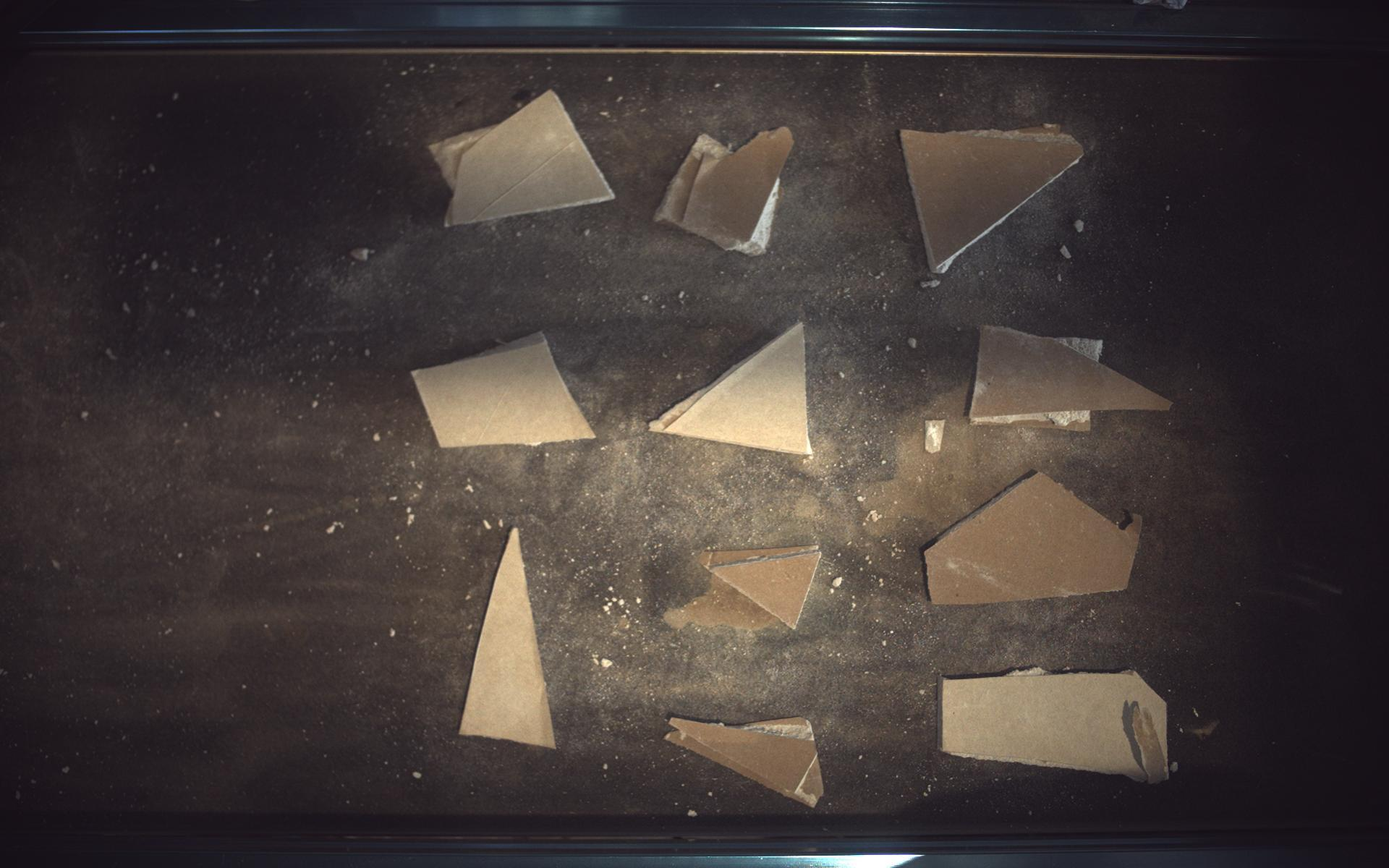gypsum_board: (926, 472, 1144, 605), (903, 124, 1085, 274), (943, 668, 1171, 785), (428, 89, 615, 225), (650, 322, 814, 455), (972, 325, 1174, 432), (459, 528, 556, 749), (412, 332, 596, 448), (655, 126, 794, 255), (667, 718, 825, 809), (665, 545, 823, 631)
